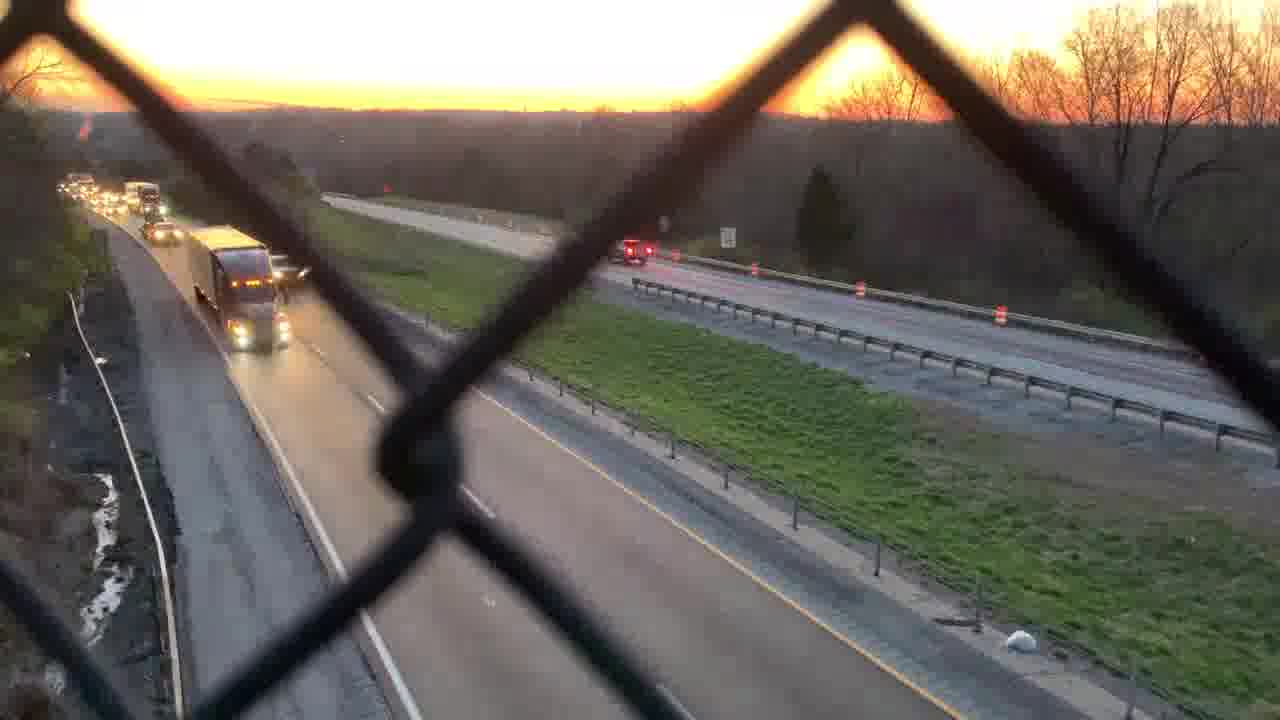heavyTruck: (184, 224, 297, 359)
lightTruck: (605, 236, 654, 264)
